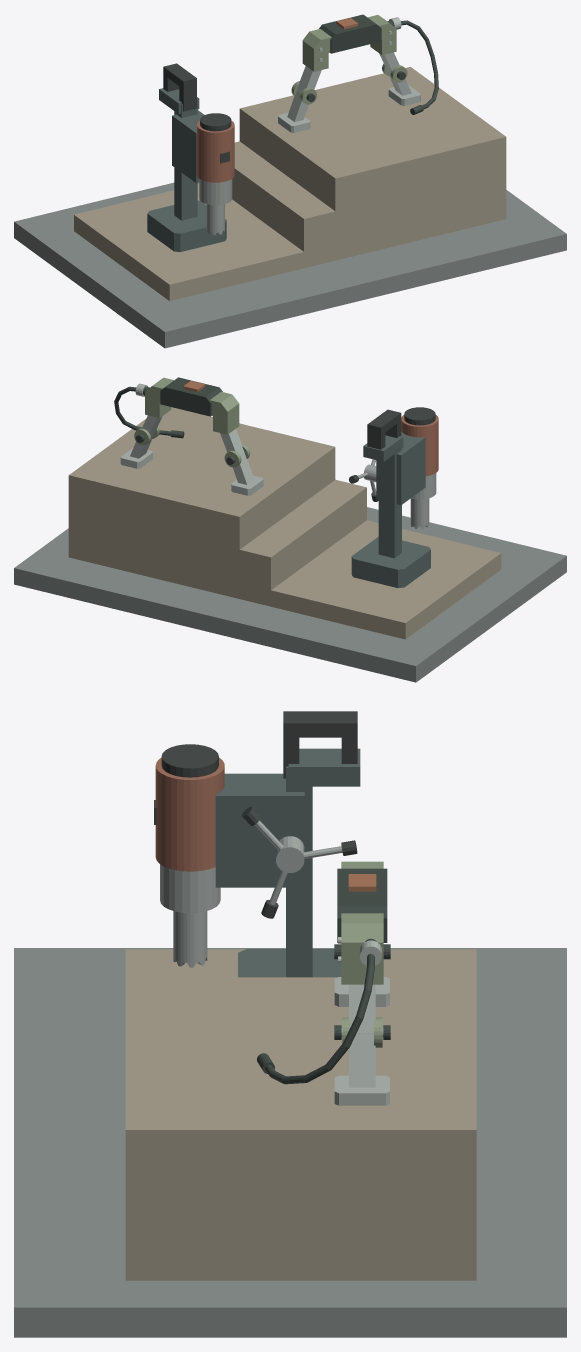
3 renders of one model, top to bottom at view 1: azimuth 30°, elevation 25°; view 2: azimuth 150°, elevation 25°; view 3: azimuth 270°, elevation 25°, orthographic. The views are drawn at different scales.
Parts seen in each view (by area): view 1: SCENE_ONLY__WholeContinuousSteppedPlinth, SCENE_ONLY__WholeCommonFloor, drill__WholeChamferedLowMagneticStyleBase, drill__WholeUprightMotorCase, yoke__WholeContinuousBridgeHousing, drill__WholeForwardOffsetMotorCarriage, yoke__WholeCentralSteppedGrip, drill__WholeShortRearColumn, drill__WholeOpenUpperCarryHandle, drill__WholeLowerOffsetGearbox, drill__WholeHollowBluntNotchedAnnularCutter, yoke__WholeContinuousRelaxedSideCable (+2 smaller); view 2: SCENE_ONLY__WholeContinuousSteppedPlinth, SCENE_ONLY__WholeCommonFloor, drill__WholeChamferedLowMagneticStyleBase, drill__WholeShortRearColumn, drill__WholeForwardOffsetMotorCarriage, yoke__WholeContinuousBridgeHousing, yoke__WholeCentralSteppedGrip, drill__WholeUprightMotorCase, drill__WholeOpenUpperCarryHandle, drill__WholeUpperHandleMount, drill__WholeHollowBluntNotchedAnnularCutter, drill__WholeDarkUpperMotorCap (+3 smaller); view 3: SCENE_ONLY__WholeContinuousSteppedPlinth, SCENE_ONLY__WholeCommonFloor, drill__WholeForwardOffsetMotorCarriage, drill__WholeUprightMotorCase, drill__WholeShortRearColumn, drill__WholeOpenUpperCarryHandle, yoke__WholeContinuousBridgeHousing, drill__WholeLowerOffsetGearbox, drill__WholeUpperHandleMount, drill__WholeChamferedLowMagneticStyleBase, yoke__WholeCentralSteppedGrip, drill__WholeHollowBluntNotchedAnnularCutter (+7 smaller).
Part boxes in pixels (x1,y1,x2,y2): SCENE_ONLY__WholeContinuousSteppedPlinth: (74,67,506,300); SCENE_ONLY__WholeCommonFloor: (14,182,566,348); drill__WholeChamferedLowMagneticStyleBase: (147,200,226,252); drill__WholeUprightMotorCase: (197,120,234,182); yoke__WholeContinuousBridgeHousing: (302,15,396,71); drill__WholeForwardOffsetMotorCarriage: (172,110,204,183); yoke__WholeCentralSteppedGrip: (319,14,381,53); drill__WholeShortRearColumn: (174,101,197,220); drill__WholeOpenUpperCarryHandle: (163,63,196,111); drill__WholeLowerOffsetGearbox: (199,179,232,205); drill__WholeHollowBluntNotchedAnnularCutter: (206,204,224,235); yoke__WholeContinuousRelaxedSideCable: (401,20,438,108); SCENE_ONLY__WholeContinuousSteppedPlinth: (68,407,501,639); SCENE_ONLY__WholeCommonFloor: (14,507,566,682); drill__WholeChamferedLowMagneticStyleBase: (351,536,430,588); drill__WholeShortRearColumn: (378,449,401,558); drill__WholeForwardOffsetMotorCarriage: (376,431,425,504); yoke__WholeContinuousBridgeHousing: (145,377,239,434); yoke__WholeCentralSteppedGrip: (160,377,222,416); drill__WholeUprightMotorCase: (401,415,438,476); drill__WholeOpenUpperCarryHandle: (367,409,401,449); drill__WholeUpperHandleMount: (363,435,403,461); drill__WholeHollowBluntNotchedAnnularCutter: (410,498,429,528); drill__WholeDarkUpperMotorCap: (404,407,435,425); SCENE_ONLY__WholeContinuousSteppedPlinth: (125,949,476,1280); SCENE_ONLY__WholeCommonFloor: (14,948,566,1337); drill__WholeForwardOffsetMotorCarriage: (215,773,304,887); drill__WholeUprightMotorCase: (155,757,224,871); drill__WholeShortRearColumn: (286,766,312,977); drill__WholeOpenUpperCarryHandle: (283,711,357,778); yoke__WholeContinuousBridgeHousing: (341,861,383,984); drill__WholeLowerOffsetGearbox: (160,864,220,913); drill__WholeUpperHandleMount: (288,748,360,786); drill__WholeChamferedLowMagneticStyleBase: (238,949,341,977); yoke__WholeCentralSteppedGrip: (337,868,387,942); drill__WholeHollowBluntNotchedAnnularCutter: (173,911,207,967).
Bounding box in the file's own units: 1.6 × 0.725 × 1.04.
